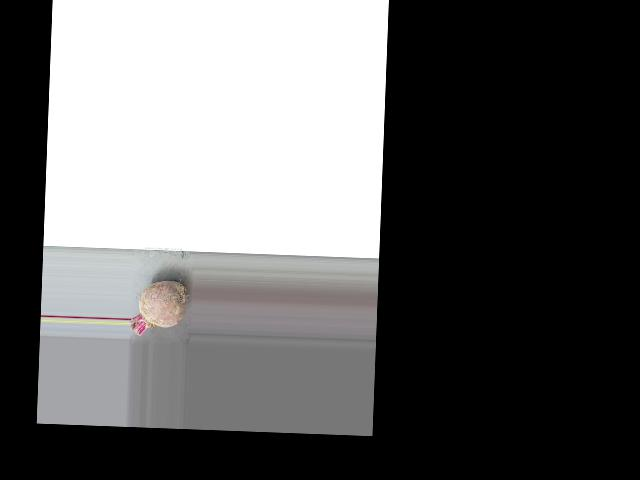beet: (129, 279, 187, 336)
